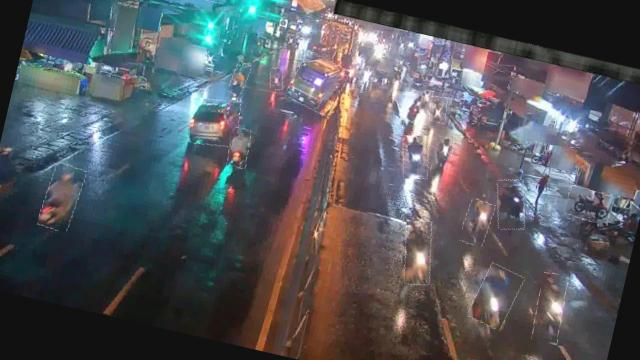Bike: (469, 262, 524, 331), (38, 163, 86, 234), (396, 219, 440, 289), (529, 272, 571, 344), (490, 177, 532, 234), (564, 185, 614, 225), (396, 132, 434, 182), (460, 198, 495, 248), (400, 90, 428, 133), (225, 127, 252, 169), (430, 136, 456, 174), (227, 61, 250, 97), (427, 95, 449, 124), (406, 93, 424, 122), (266, 66, 285, 91), (419, 90, 434, 114)
Bus: (286, 51, 350, 117)
Car: (184, 94, 244, 152)
